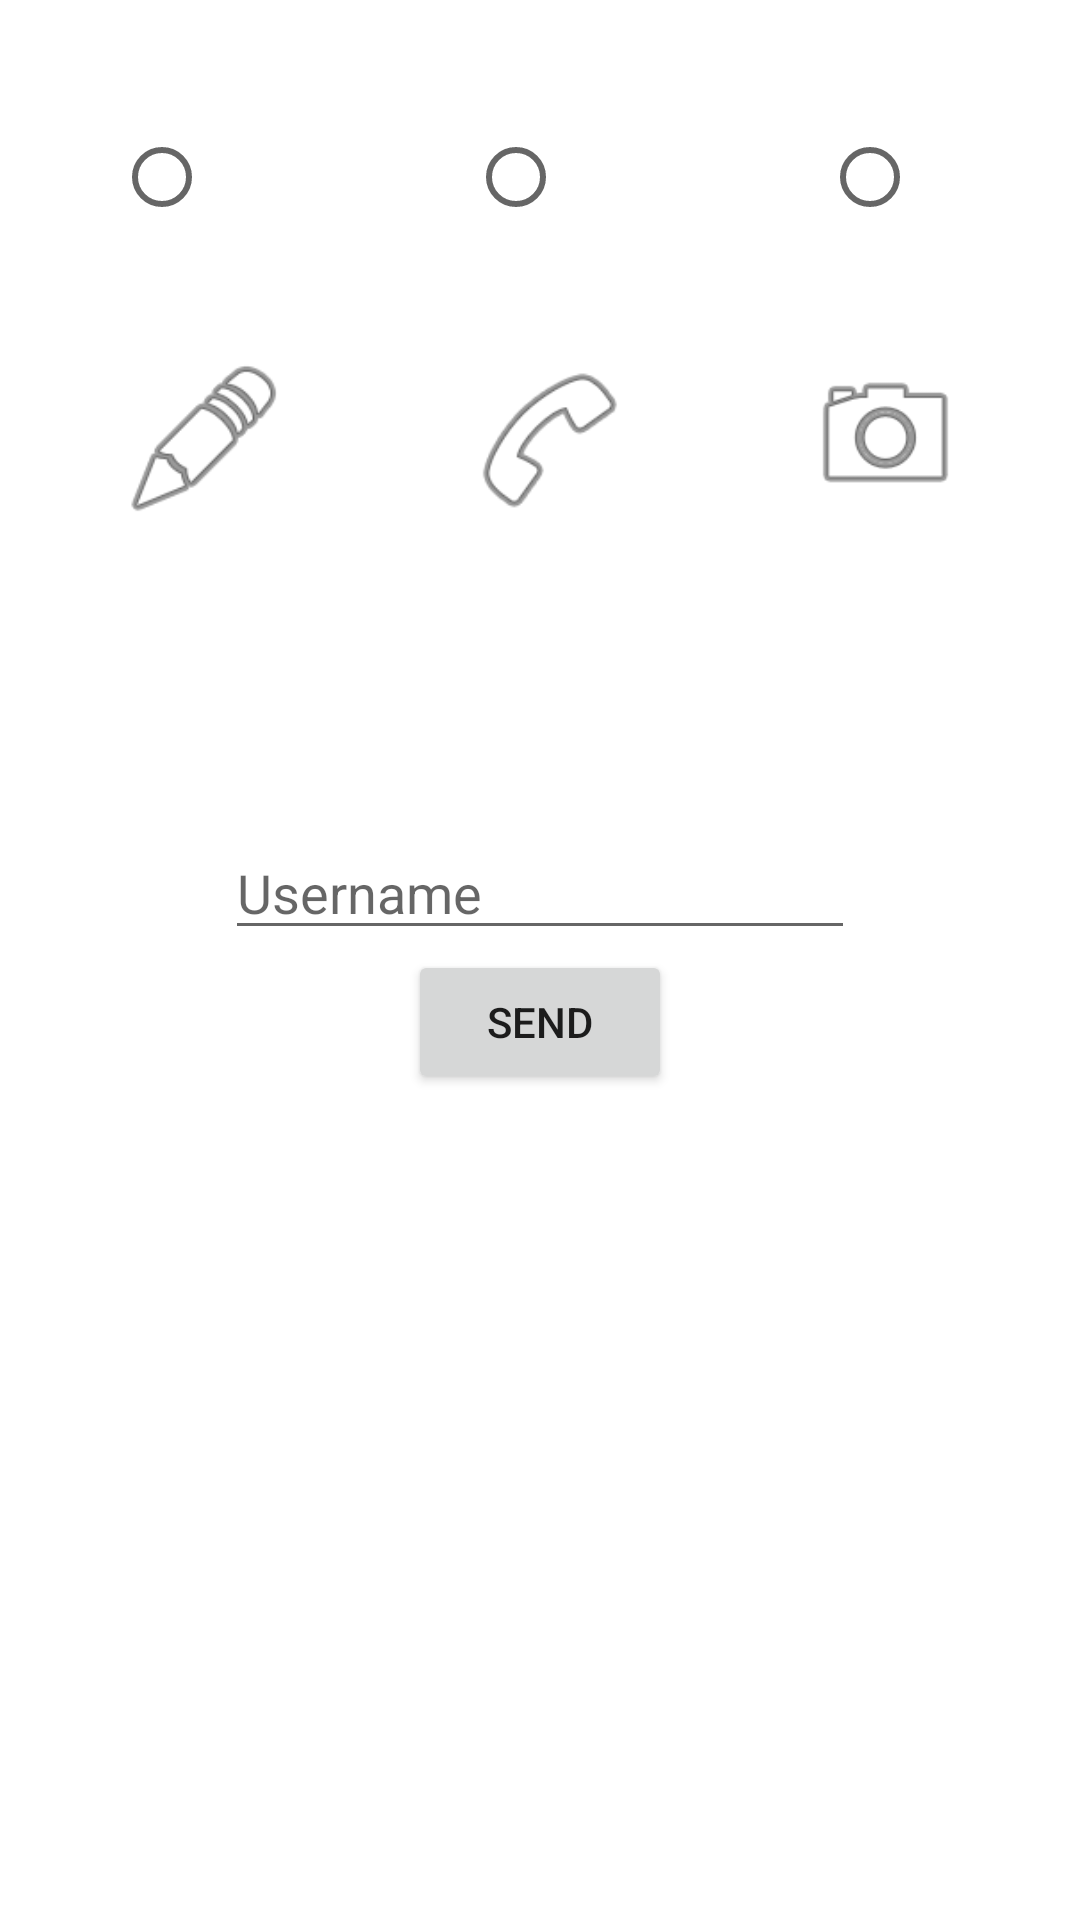

Icons on this 1080x1920 Android screen, each with the point to tap as point (x, y):
call: point (550, 440)
camera: point (885, 432)
edit: point (203, 438)
